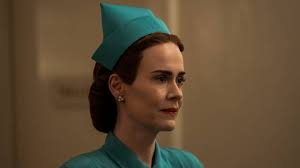No-Glasses: (148, 67, 191, 91)
